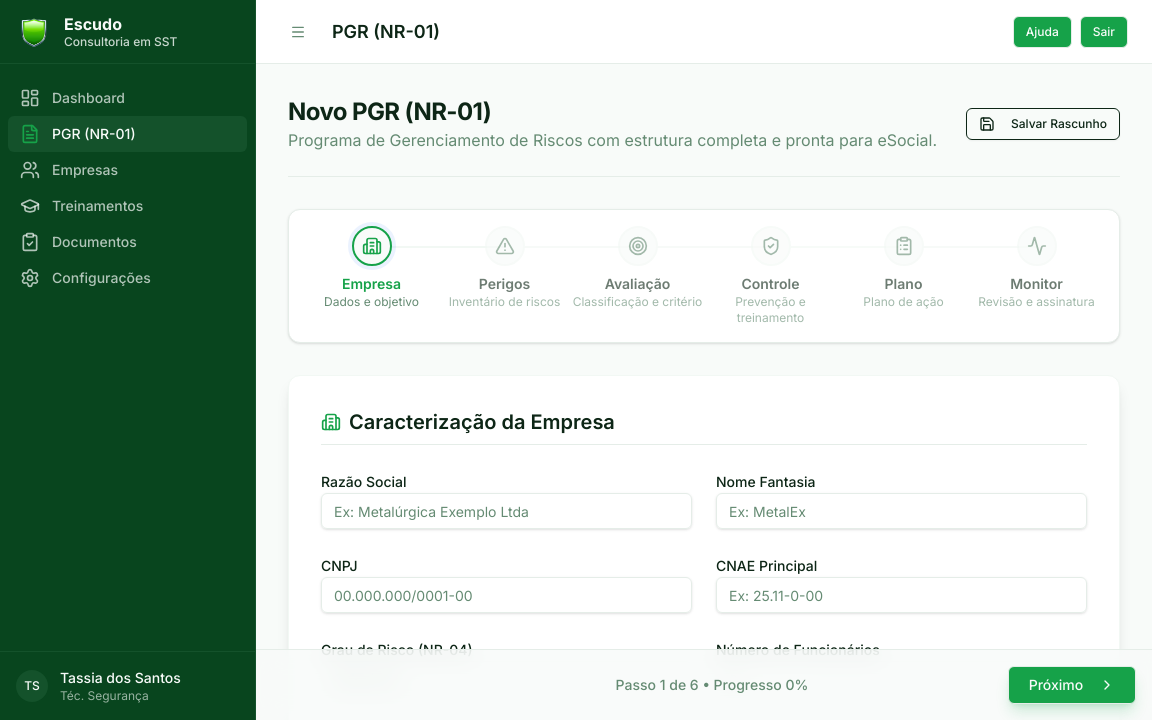
Scenario: PGRWizard integration › navigates between steps and returns to previous
This screenshot has width=1152, height=720.
Click the button "Próximo".
click(1072, 685)  # box 1008,666 -> 1136,704
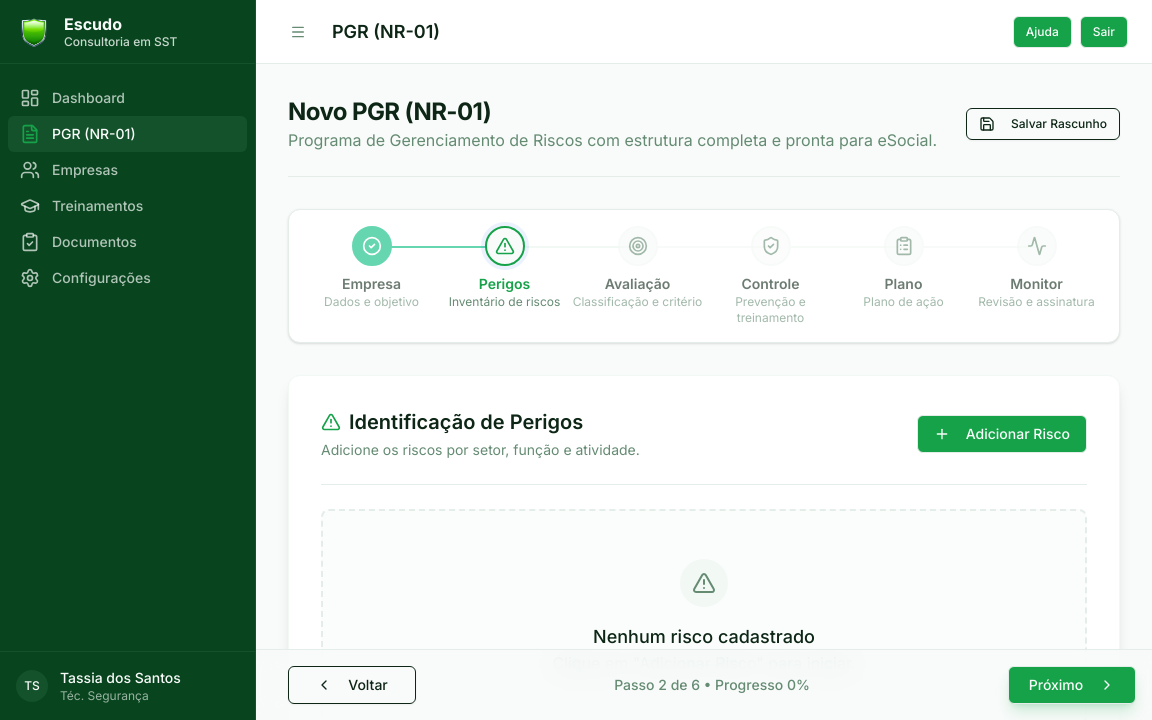
Click the button "Próximo".
click(1072, 685)  # box 1008,666 -> 1136,704
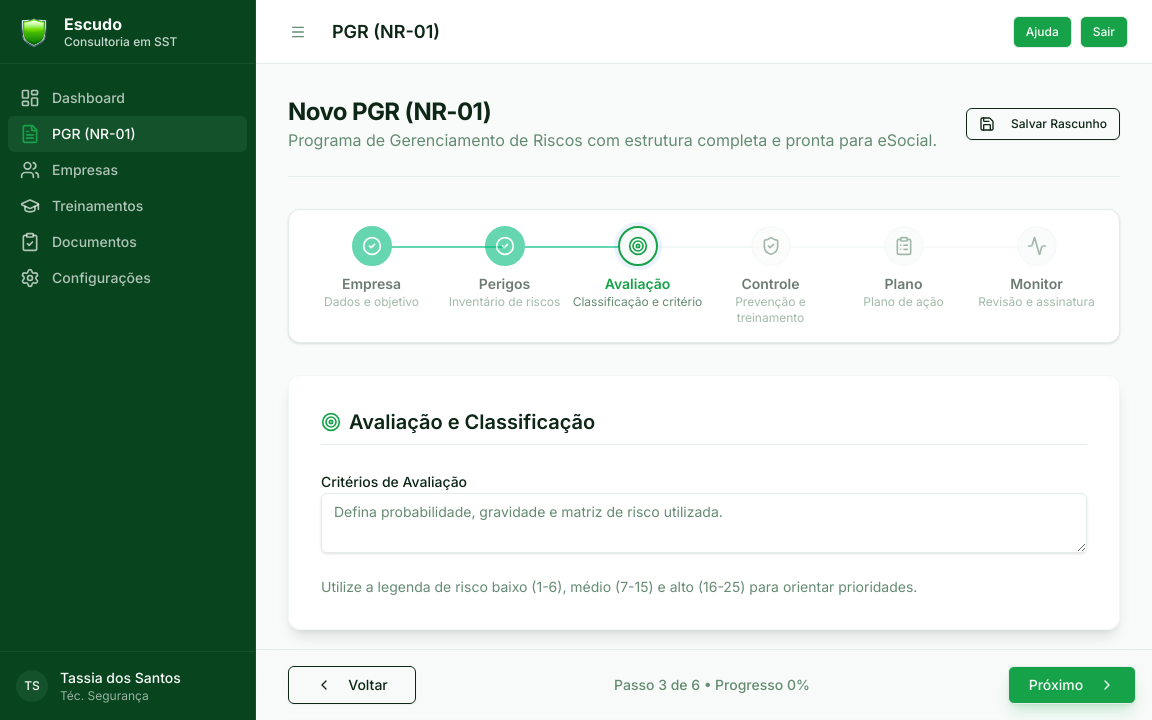
Click the button "Voltar".
click(352, 685)  # box 288,666 -> 416,704
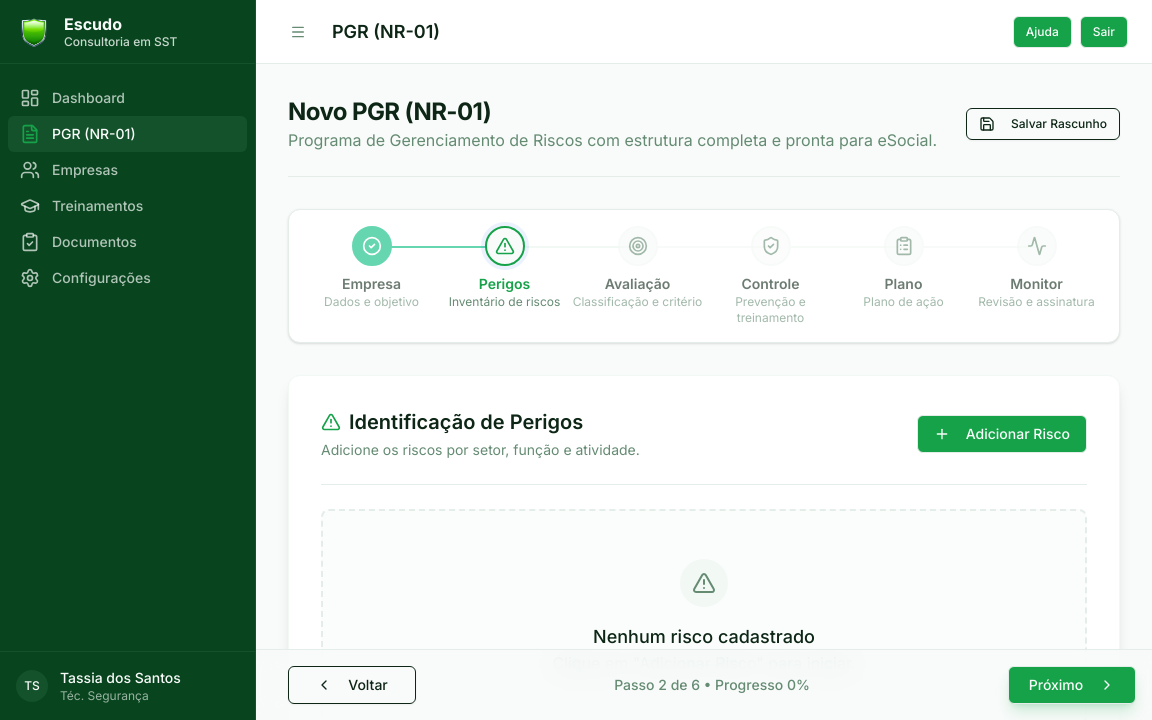
Click the button "Voltar".
click(352, 685)  # box 288,666 -> 416,704
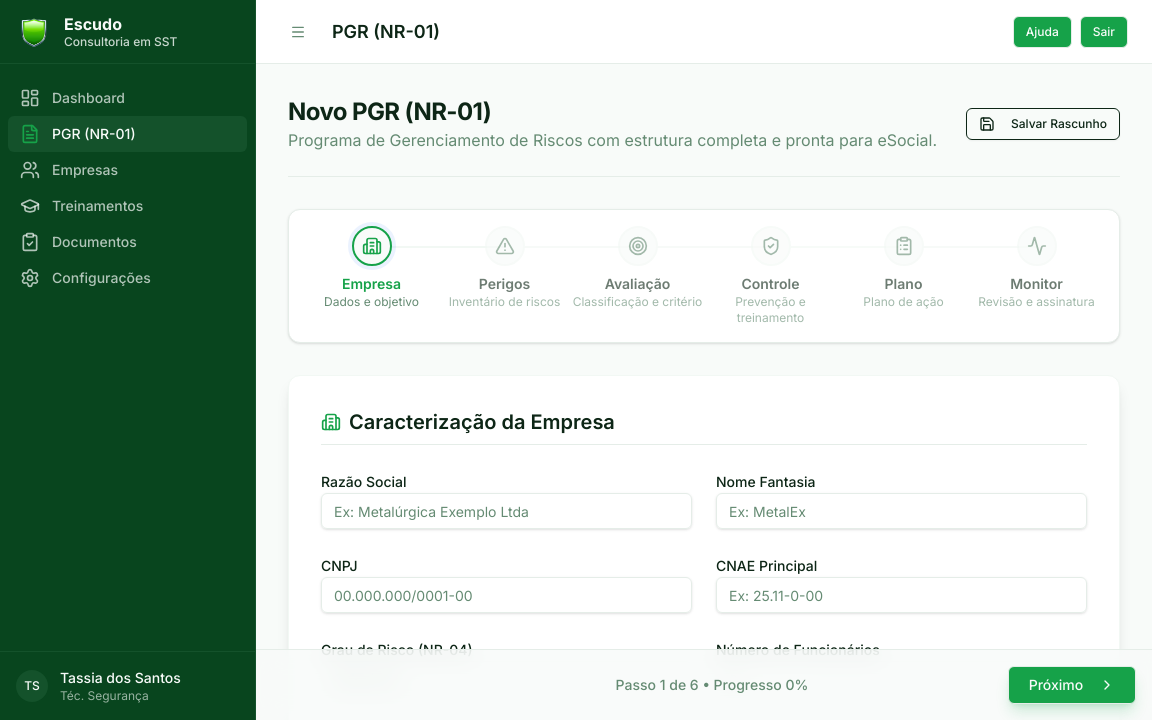
Expected: the field with placeholder "Ex: Metalúrgica Exemplo Ltda" is shown, 321,493 -> 692,529
